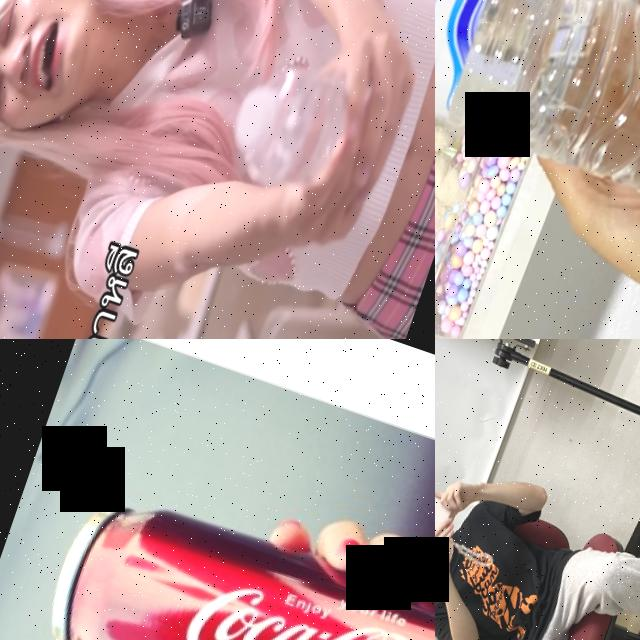bottle: (435, 0, 640, 235), (216, 48, 362, 208)
can: (24, 475, 435, 640)
